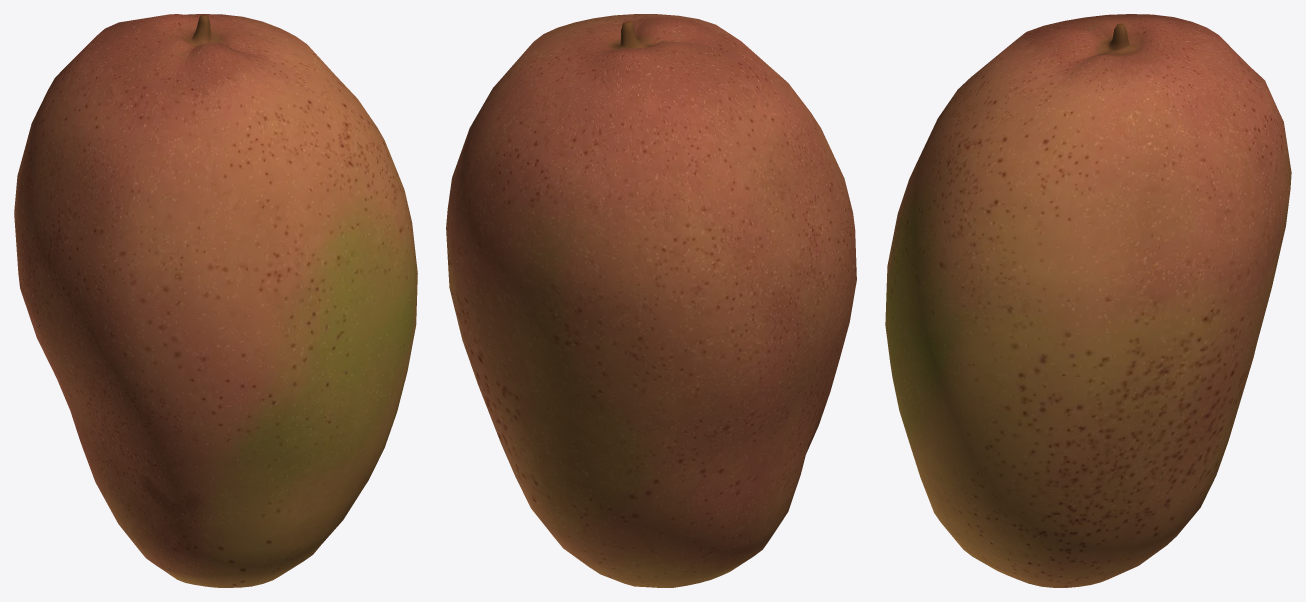
The model's file is mango.glb.
3 views of the same model, side by side, from view 1: azimuth 30°, elevation 25°; view 2: azimuth 150°, elevation 25°; view 3: azimuth 270°, elevation 25° (orthographic). The views are drawn at different scales.
Parts seen in each view (by area): view 1: Mango; view 2: Mango; view 3: Mango.
Part boxes in pixels (x1,y1,x2,y2): Mango: (14,14,417,587); Mango: (446,14,856,587); Mango: (885,14,1291,587).
Bounding box in the file's own units: 0.6899 × 1.07 × 0.7104.
Materials: 1 (1 with a texture image).
